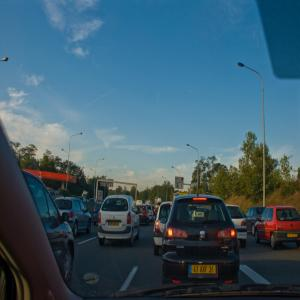Vehicle-registration-plate: (190, 264, 217, 275), (109, 222, 120, 227), (287, 234, 299, 237)
